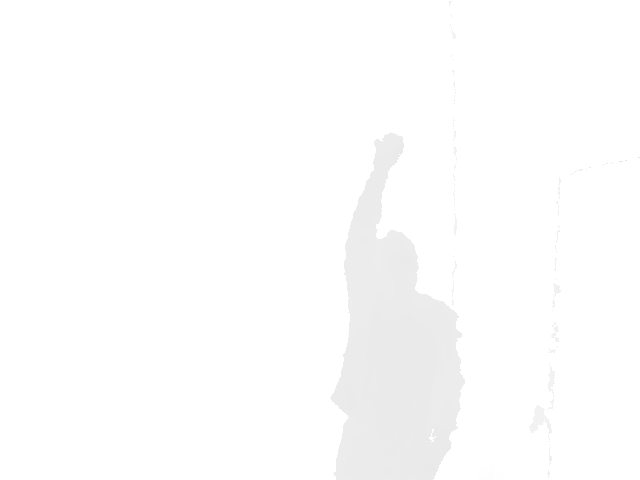hand: (371, 131, 406, 169)
head: (371, 229, 419, 299)
person: (330, 131, 467, 480)
